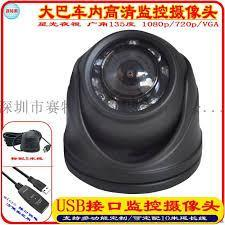maru: (63, 32, 203, 164)
